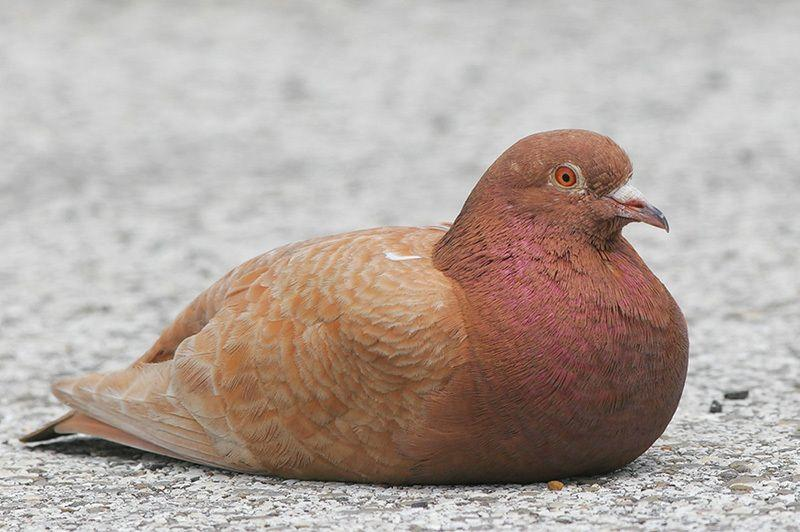Flying Rat: (23, 120, 693, 464)
